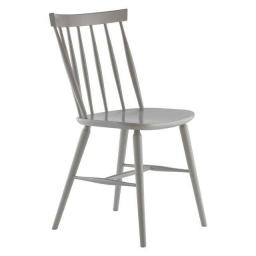Chair: (47, 10, 206, 247)
